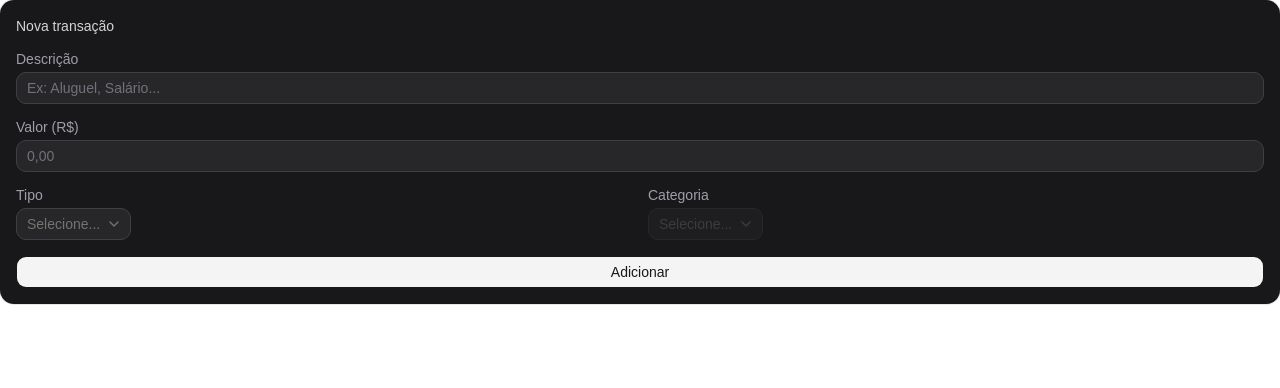
it: TransactionForm — validação › exibe erro ao informar valor negativo
In the number field labelled "Valor (R$)": (640,156) [16, 140, 1264, 172], type "-50"
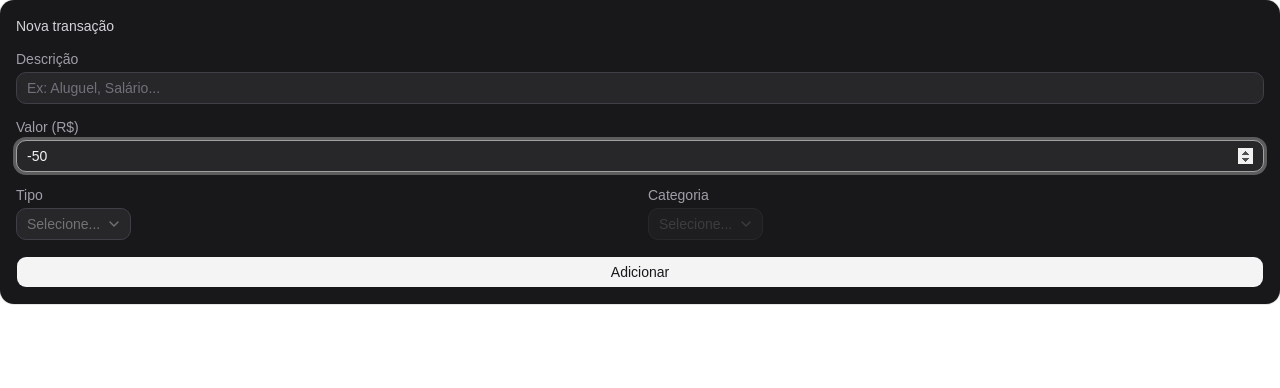
Click the button "Adicionar": (640,272) [16, 256, 1264, 288]
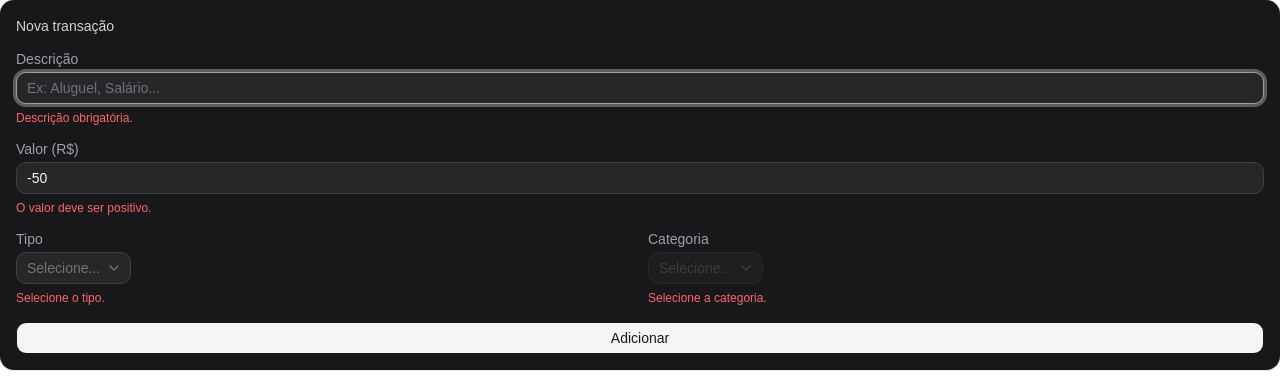
Result: the text "O valor deve ser positivo." is shown at [16, 201, 151, 215]
